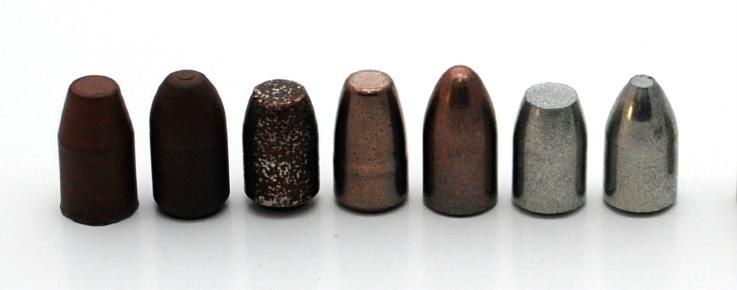Bullet: (55, 69, 144, 227), (144, 68, 236, 219), (599, 68, 688, 221), (507, 73, 598, 219), (329, 65, 413, 220), (239, 67, 320, 226), (423, 59, 498, 223)
